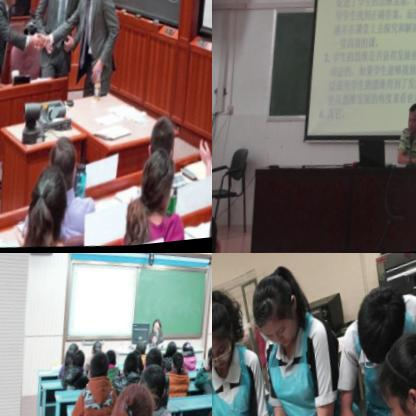head: (349, 285, 410, 378), (249, 271, 309, 355), (372, 328, 416, 416), (24, 166, 68, 246), (136, 150, 180, 227), (212, 292, 242, 375), (43, 132, 81, 194), (145, 114, 176, 170), (107, 383, 154, 416), (138, 365, 167, 413), (86, 352, 109, 389), (142, 350, 165, 384), (403, 103, 416, 142), (121, 353, 138, 382), (68, 352, 85, 375), (134, 341, 147, 363), (170, 356, 183, 374), (104, 352, 116, 370), (65, 343, 76, 361), (90, 341, 101, 359), (164, 344, 176, 360), (0, 0, 21, 9), (150, 322, 160, 340), (181, 344, 191, 359), (206, 359, 212, 376), (205, 351, 212, 365)
